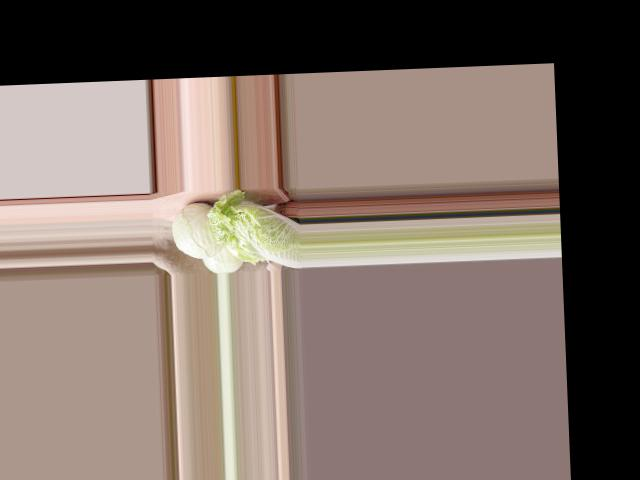lettuce: (206, 186, 300, 268)
